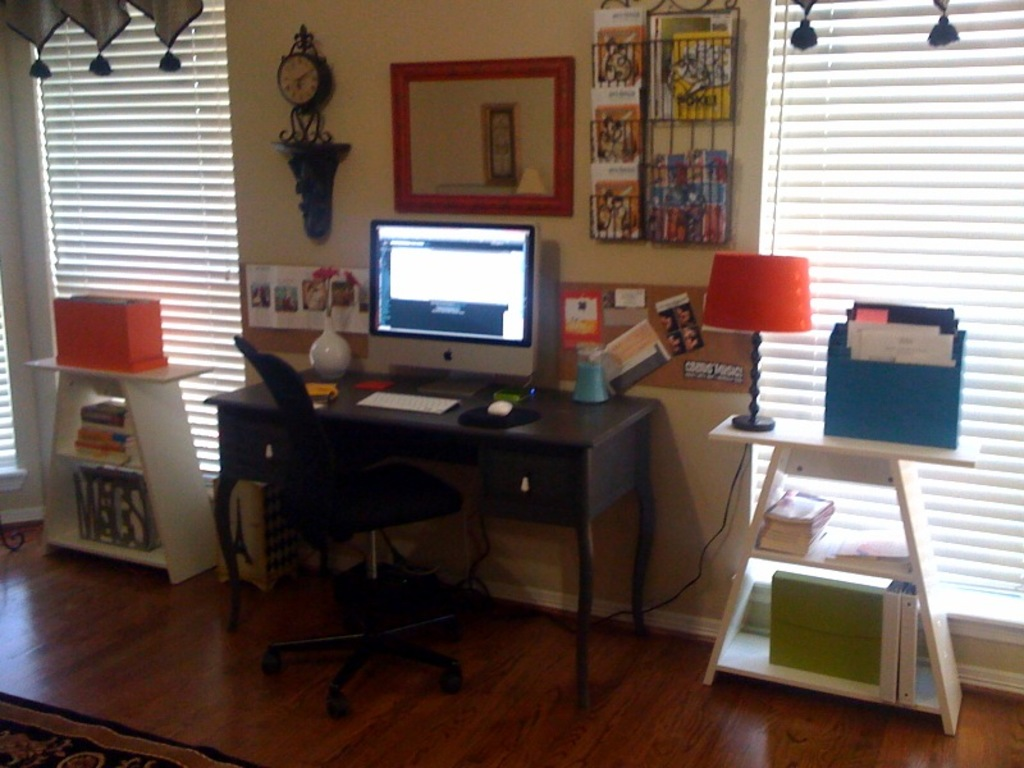Chair: (229, 335, 462, 714)
